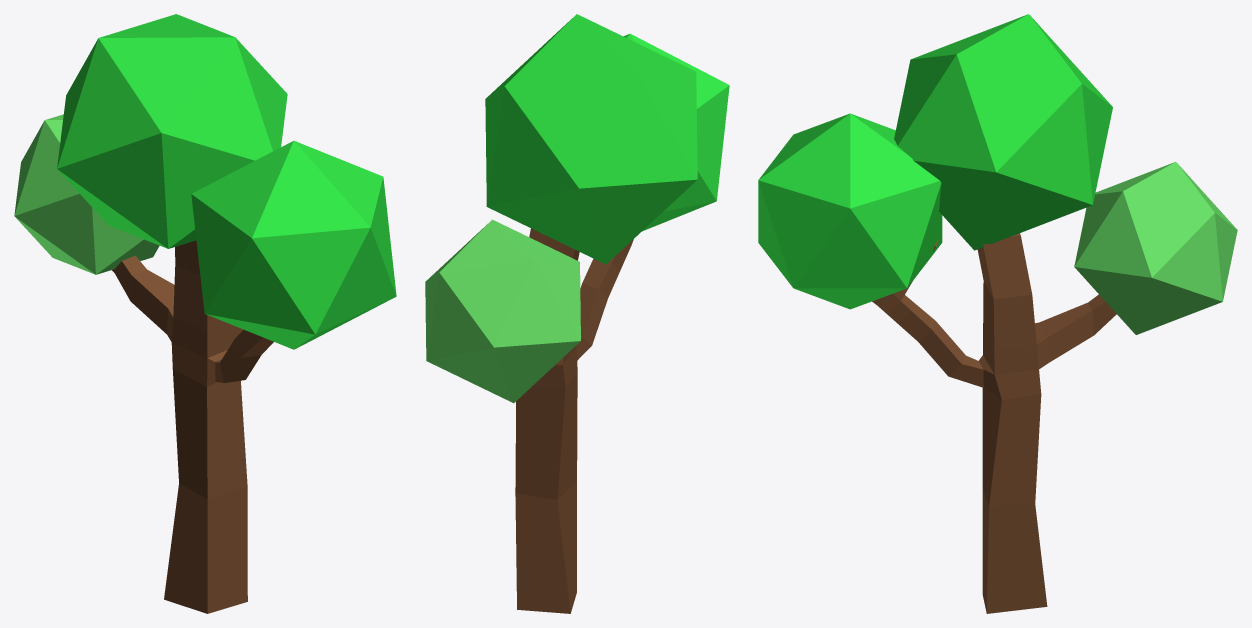
Rendered from livingtreeplain1.fbx.
3 renders of one model, left to right at view 1: azimuth 30°, elevation 25°; view 2: azimuth 150°, elevation 25°; view 3: azimuth 270°, elevation 25°, orthographic. The views are drawn at different scales.
Visible parts, largest first — view 1: Icosphere.003; view 2: Icosphere.003; view 3: Icosphere.003.
Boxes of the visible parts, <box> form: Icosphere.003: <box>14,14,396,613</box>; Icosphere.003: <box>425,14,729,613</box>; Icosphere.003: <box>758,14,1237,613</box>.
Size of the model in its own units: 94.38 by 217 by 172.
